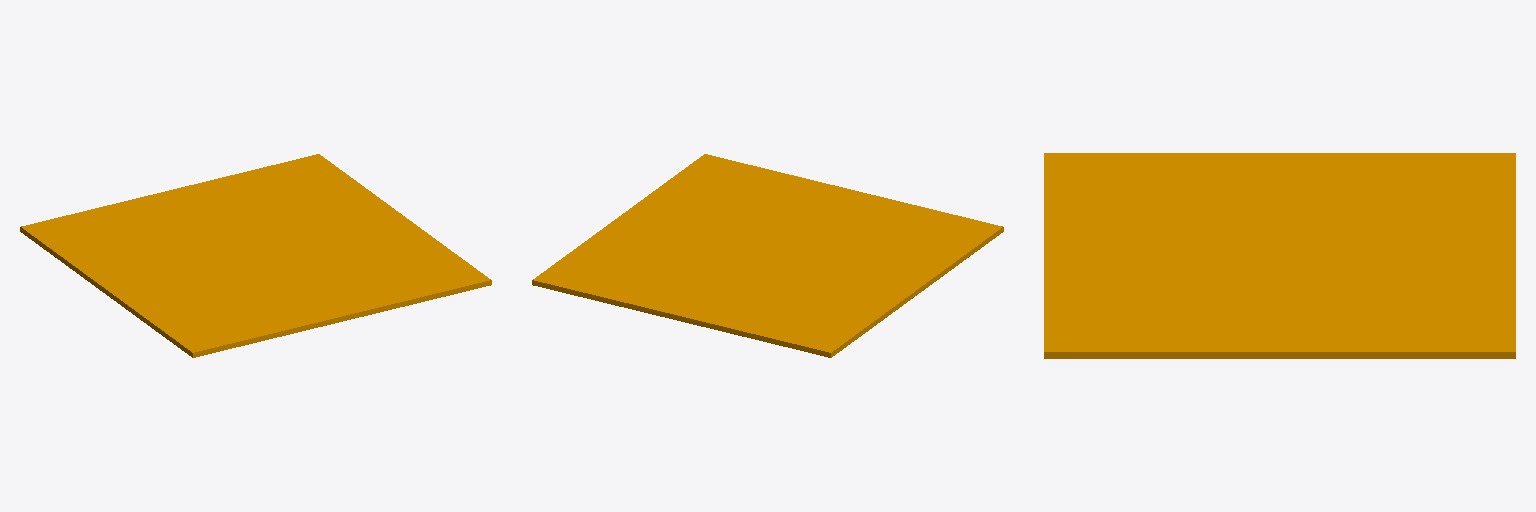
robot.urdf — Wall:
<robot name="Wall">
  <link name="Wall">

    <!-- rosrun gazebo_ros spawn_model -file $(rospack find ur5_single_arm_tufts)/urdf/objects/table.urdf -urdf -x 0.5 -y -0 -z 0.75 -model table -->
    
    <inertial>
      <origin xyz="-0.2 0 1.5" rpy="0 0 0" />
      <mass value="1"/>
      <inertia
        ixx="0.07" ixy="0.0" ixz="0.0"
        iyy="0.40" iyz="0.0"
        izz="0.33"/>
    </inertial>

    <visual>
      <geometry>
        <box size="3 3 0.05"/>
      </geometry>
    </visual>

    <collision>
      <geometry>
        <box size="3 3 0.05"/>
      </geometry>
    </collision>

  </link>

  <gazebo reference="Wall">
    <material>Gazebo/White</material>
  </gazebo> 

  <gazebo>
    <static>true</static>
  </gazebo>

</robot>

--- Render facts (derived) ---
Views: 3 orthographic renders of the robot side by side, from view 1: azimuth 30°, elevation 25°; view 2: azimuth 150°, elevation 25°; view 3: azimuth 270°, elevation 25°.
Model Wall with 1 links and 0 joints (none), rooted at Wall, posed all joints at 0.
Visible links, largest first — view 1: Wall; view 2: Wall; view 3: Wall.
Link boxes in pixels (x1,y1,x2,y2): Wall: [20, 154, 491, 357]; Wall: [532, 154, 1003, 357]; Wall: [1044, 153, 1515, 358].
Bounding box of the posed robot: 3 × 3 × 0.05 m (x, y, z).
Geometry: primitives only (box / cylinder / sphere), no mesh files.
